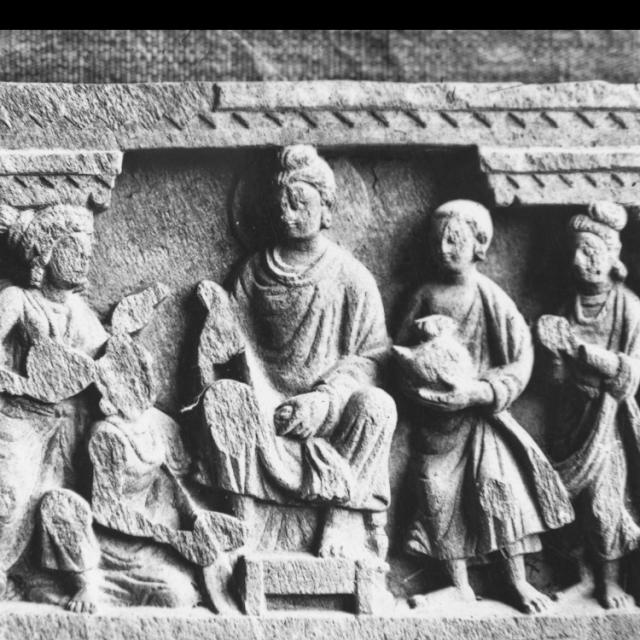buddha-sitting: (162, 146, 407, 513)
